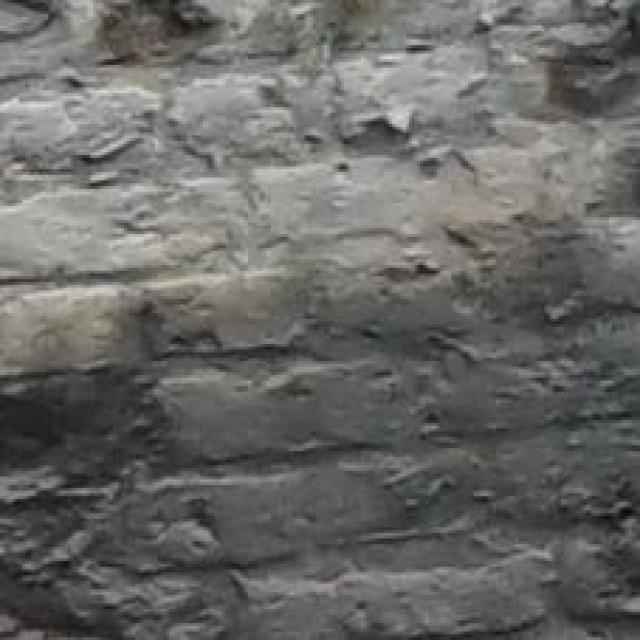Crack: (0, 292, 291, 640)
